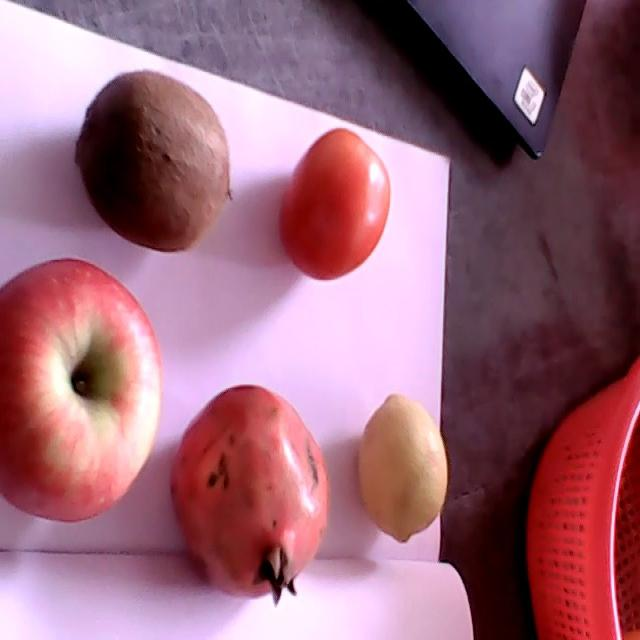apple: (0, 258, 163, 519)
kiwi: (74, 70, 233, 253)
lemon: (357, 394, 449, 543)
pomegranate: (169, 385, 329, 607)
tomato: (280, 127, 389, 282)
